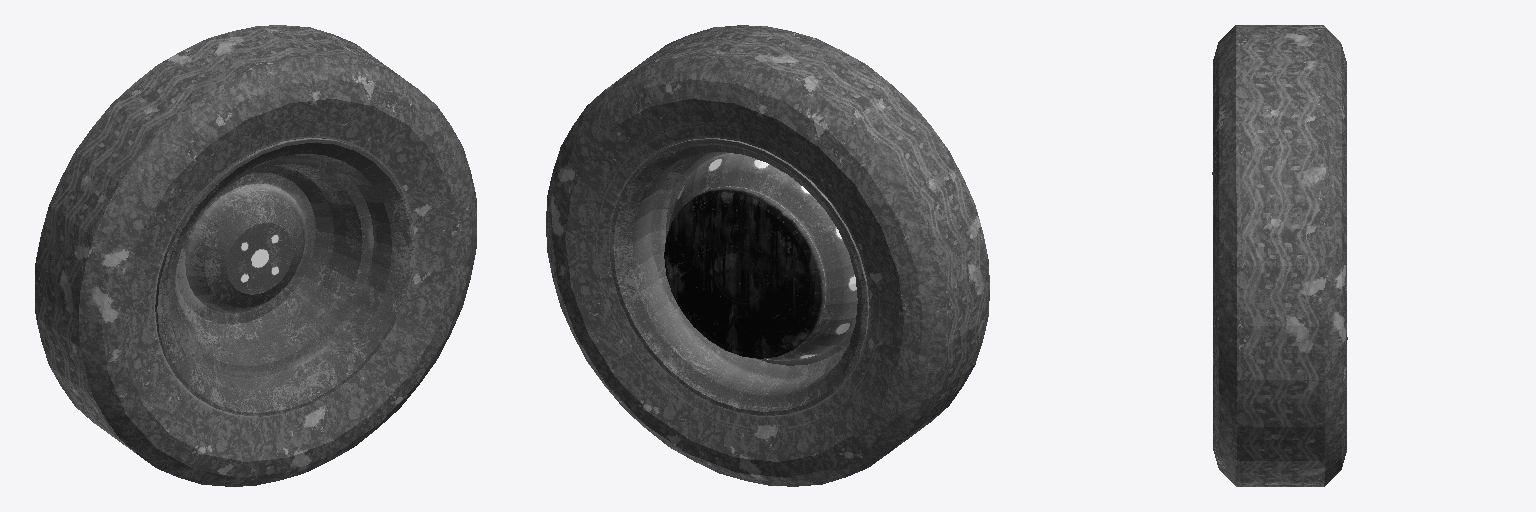
3 views of the same model, side by side, from view 1: azimuth 30°, elevation 25°; view 2: azimuth 150°, elevation 25°; view 3: azimuth 270°, elevation 25° (orthographic).
Parts seen in each view (by area): view 1: LP.001_Mesh, pCylinder1_Mesh.001; view 2: LP.001_Mesh, pCylinder1_Mesh.001, pCylinder2_Mesh.003; view 3: LP.001_Mesh.
Part boxes in pixels (x1,y1,x2,y2): LP.001_Mesh: (35,25,476,486); pCylinder1_Mesh.001: (155,138,414,416); LP.001_Mesh: (546,25,989,486); pCylinder1_Mesh.001: (609,138,869,415); pCylinder2_Mesh.003: (664,186,825,358); LP.001_Mesh: (1212,25,1347,486).
Bounding box in the file's own units: 1.46 × 1.46 × 0.4277.
1 materials, 1 textured.